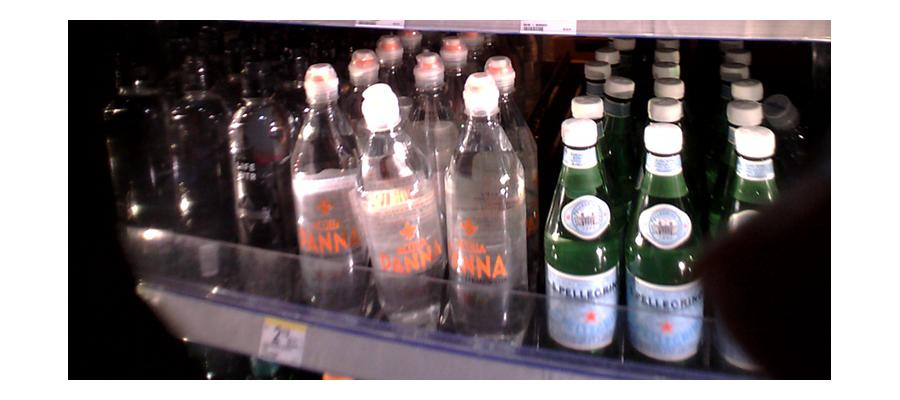bottle: (357, 83, 446, 324), (447, 80, 526, 345), (628, 125, 706, 369), (544, 111, 621, 356), (291, 65, 358, 315), (226, 86, 293, 291), (167, 68, 224, 249), (725, 124, 785, 235)
